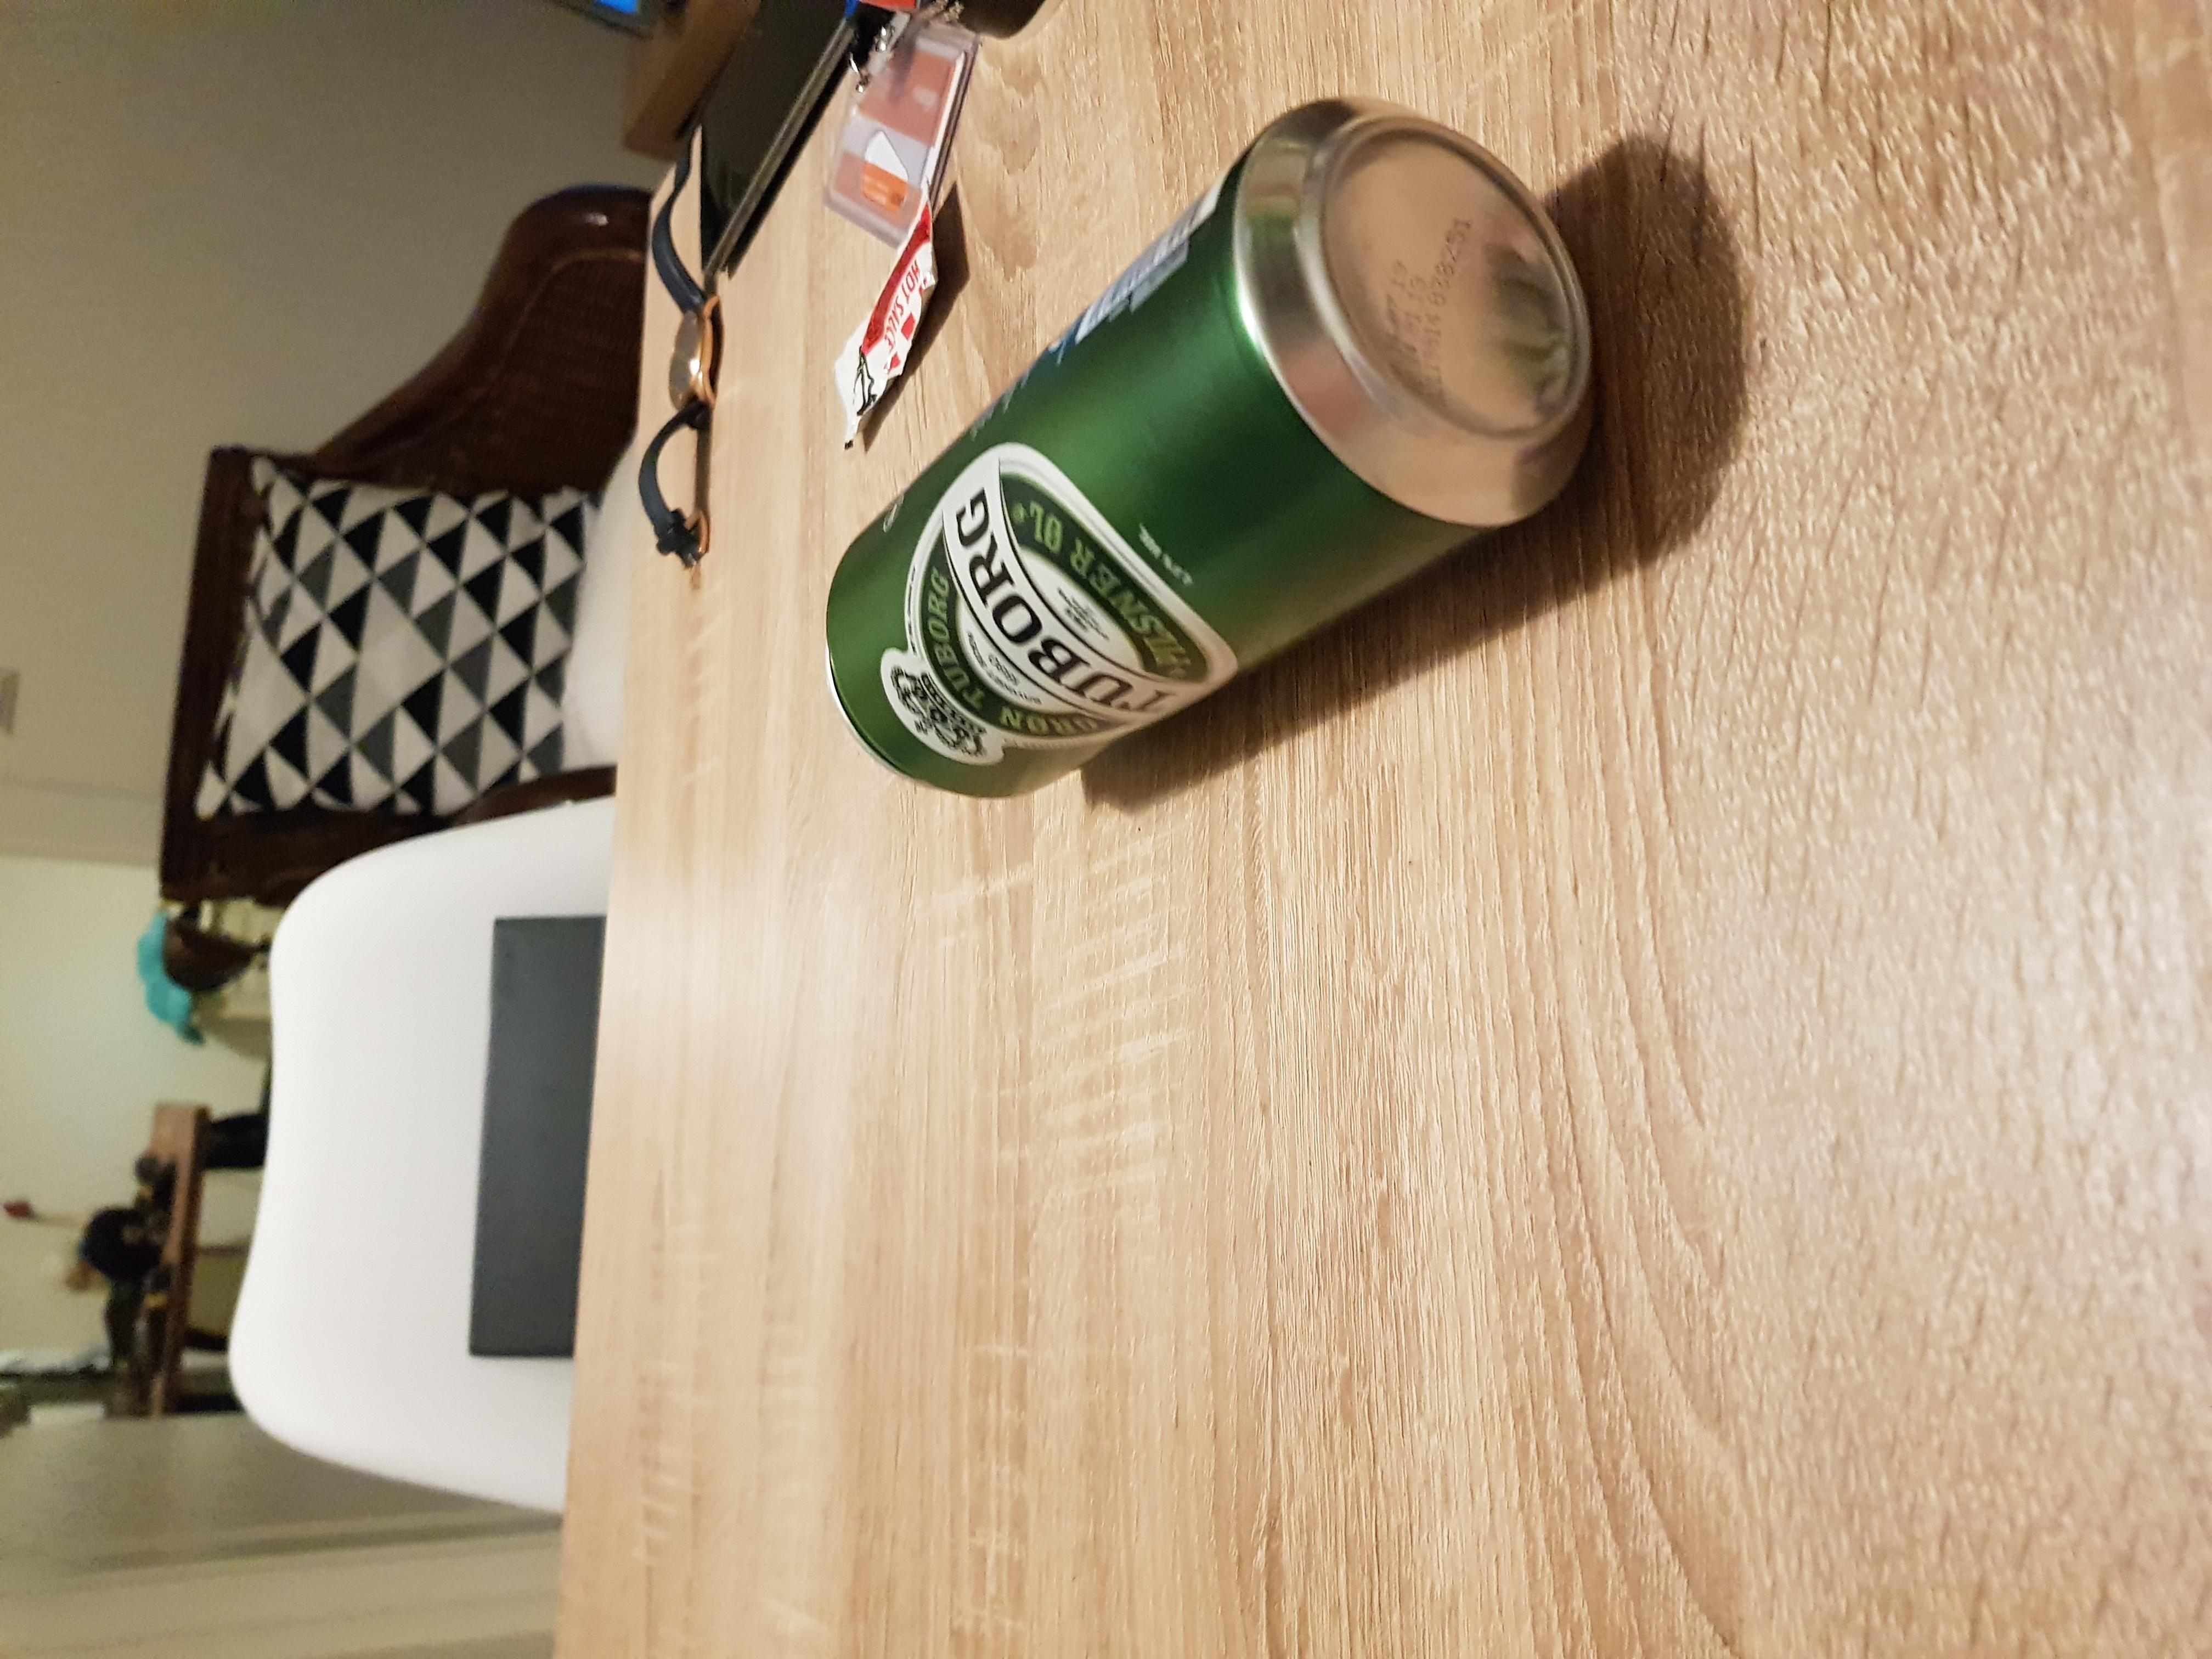Can: (813, 94, 1595, 803)
